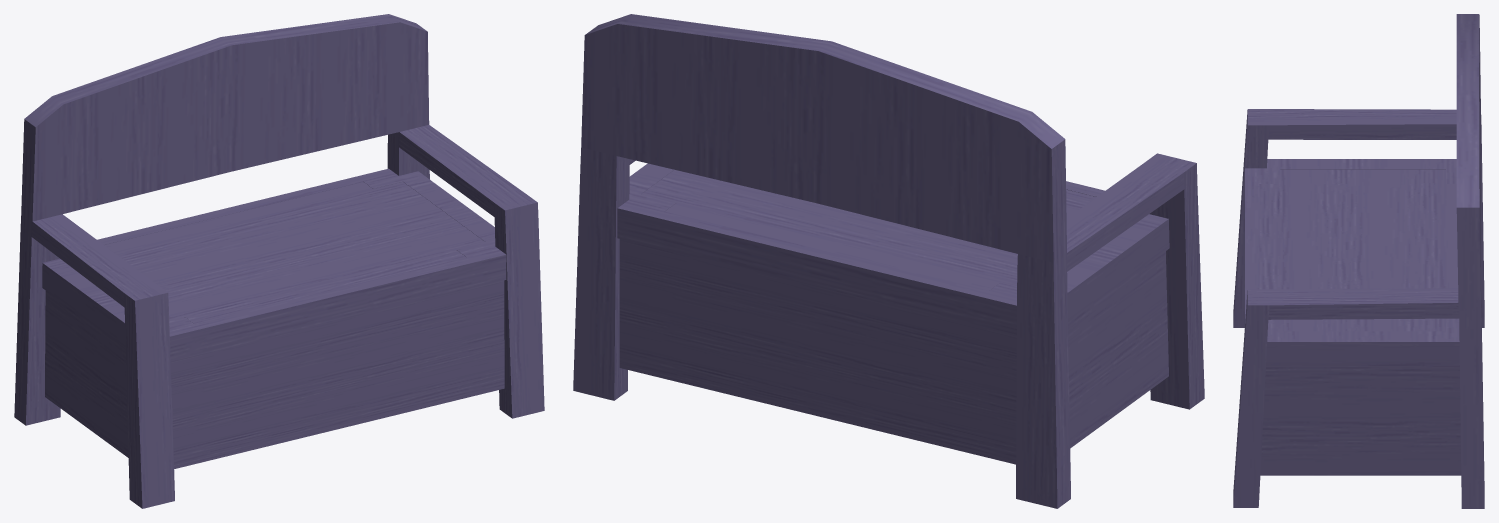
File: Deacon_Bench_F.FBX
3 renders of one model, left to right at view 1: azimuth 30°, elevation 25°; view 2: azimuth 150°, elevation 25°; view 3: azimuth 270°, elevation 25°, orthographic. The views are drawn at different scales.
Parts seen in each view (by area): view 1: Deacon_Bench, Lid; view 2: Deacon_Bench, Lid; view 3: Deacon_Bench, Lid.
Part boxes in pixels (x1,y1,x2,y2): Deacon_Bench: (14, 14, 544, 508); Lid: (104, 182, 485, 323); Deacon_Bench: (573, 14, 1204, 508); Lid: (641, 169, 1096, 290); Deacon_Bench: (1233, 14, 1484, 508); Lid: (1259, 169, 1458, 331).
Bounding box in the file's own units: 248 × 194 × 133.
